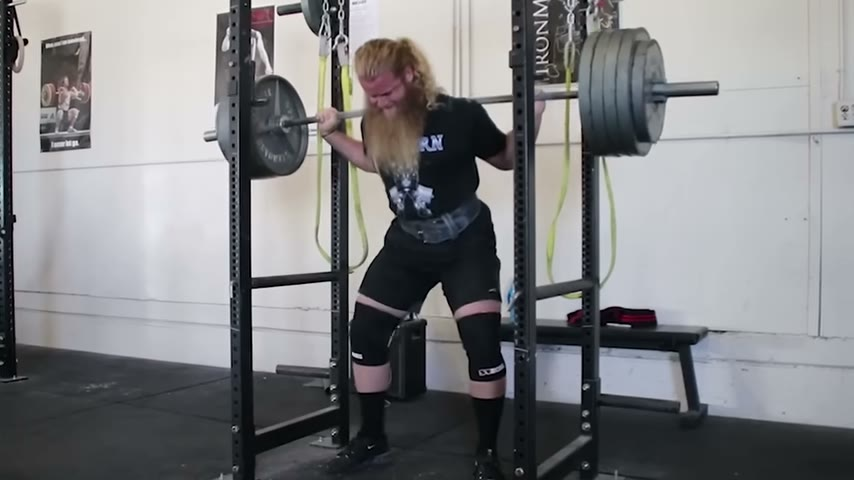barbell_plate_side: (218, 68, 293, 186)
